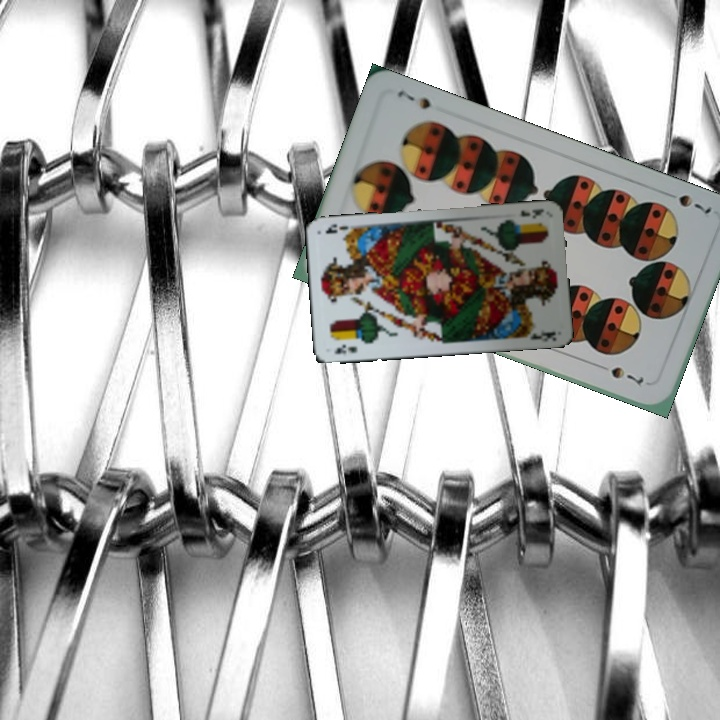EK: (330, 340, 360, 357), (516, 204, 546, 221)
S7: (660, 187, 715, 217)
